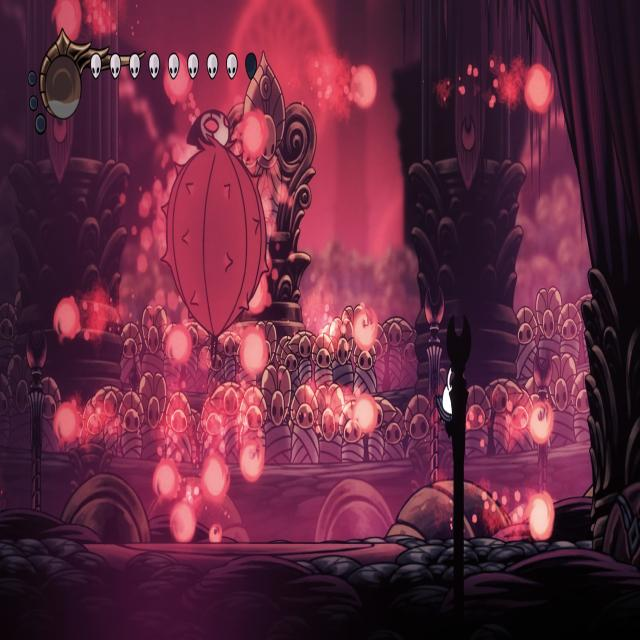Player: (434, 365, 462, 441)
Pufferfish: (158, 106, 274, 366)
Tiny Fireballs: (240, 111, 271, 165), (525, 66, 554, 118), (164, 59, 192, 108), (239, 329, 267, 377), (201, 455, 229, 503), (527, 494, 554, 542), (54, 0, 84, 43), (54, 401, 80, 447), (54, 297, 80, 341), (170, 502, 197, 544), (154, 460, 180, 503), (352, 66, 376, 110), (530, 401, 554, 445), (240, 441, 264, 483), (166, 326, 191, 366), (246, 271, 268, 315), (353, 310, 376, 352), (354, 395, 376, 436)
